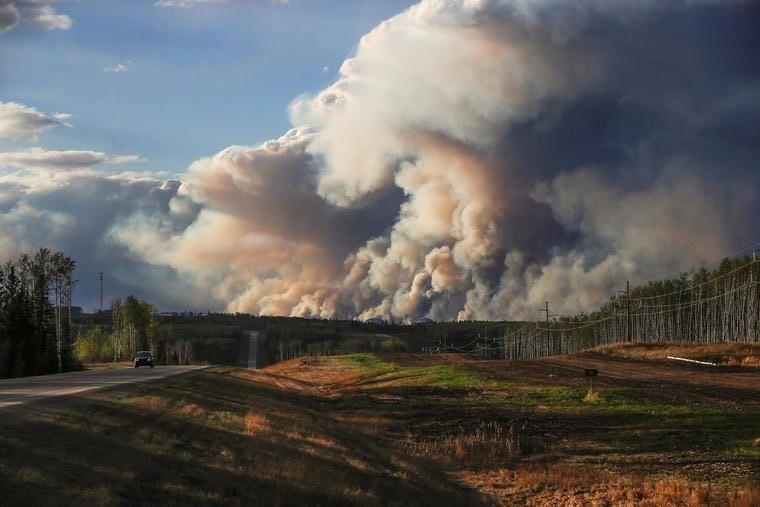smoke: (193, 0, 534, 353), (511, 3, 760, 324)
